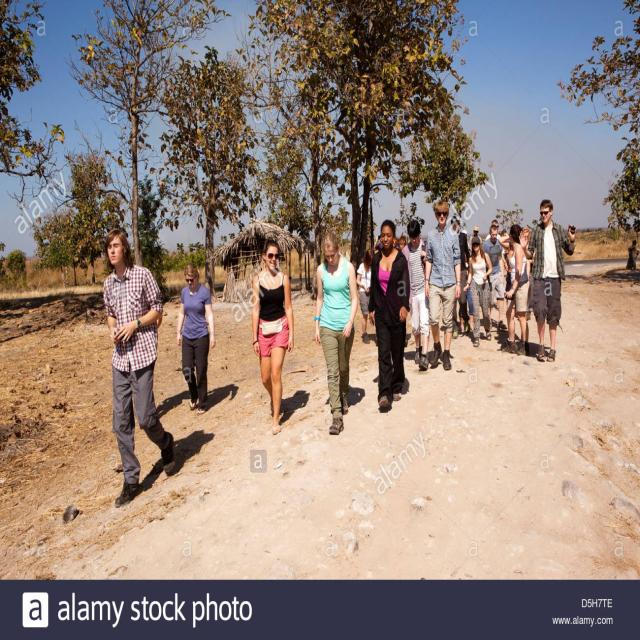body: (102, 226, 177, 508), (517, 197, 577, 363), (312, 231, 360, 436), (250, 234, 295, 436), (366, 218, 411, 409), (423, 197, 462, 371), (174, 261, 216, 416), (497, 223, 531, 357), (401, 219, 430, 371), (462, 234, 493, 348), (479, 224, 508, 330), (449, 214, 472, 340), (356, 248, 376, 344), (496, 228, 514, 294), (522, 227, 534, 312), (373, 225, 407, 250), (485, 219, 505, 255), (468, 225, 484, 257), (627, 238, 640, 270)
